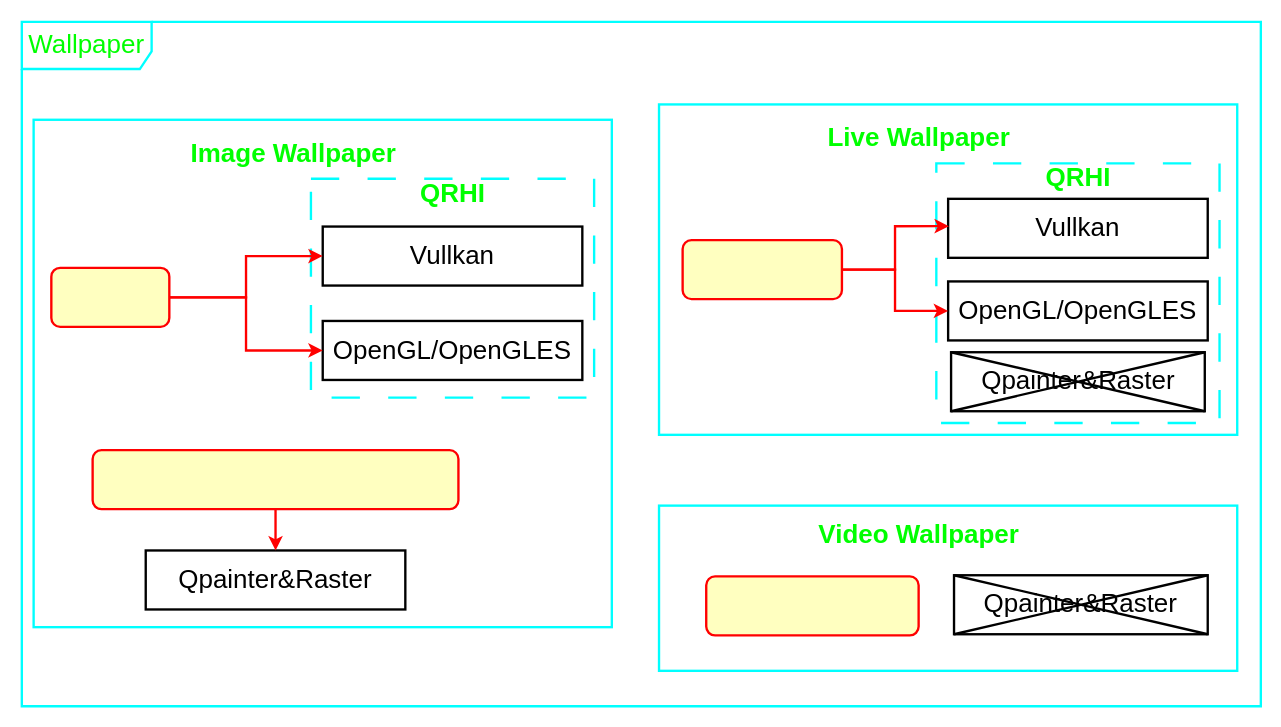
The diagram is 1281 pixels wide and 727 high, and some of its shapes have lost their labels. The centre of each missing label's shape, as x and y in pixels:
"KTX" belongs at [110,296].
"png/jpg... Qt support formarts" belongs at [275,479].
"Qt Multimedia" belongs at [811,605].
"ShaderEffect" belongs at [762,269].
